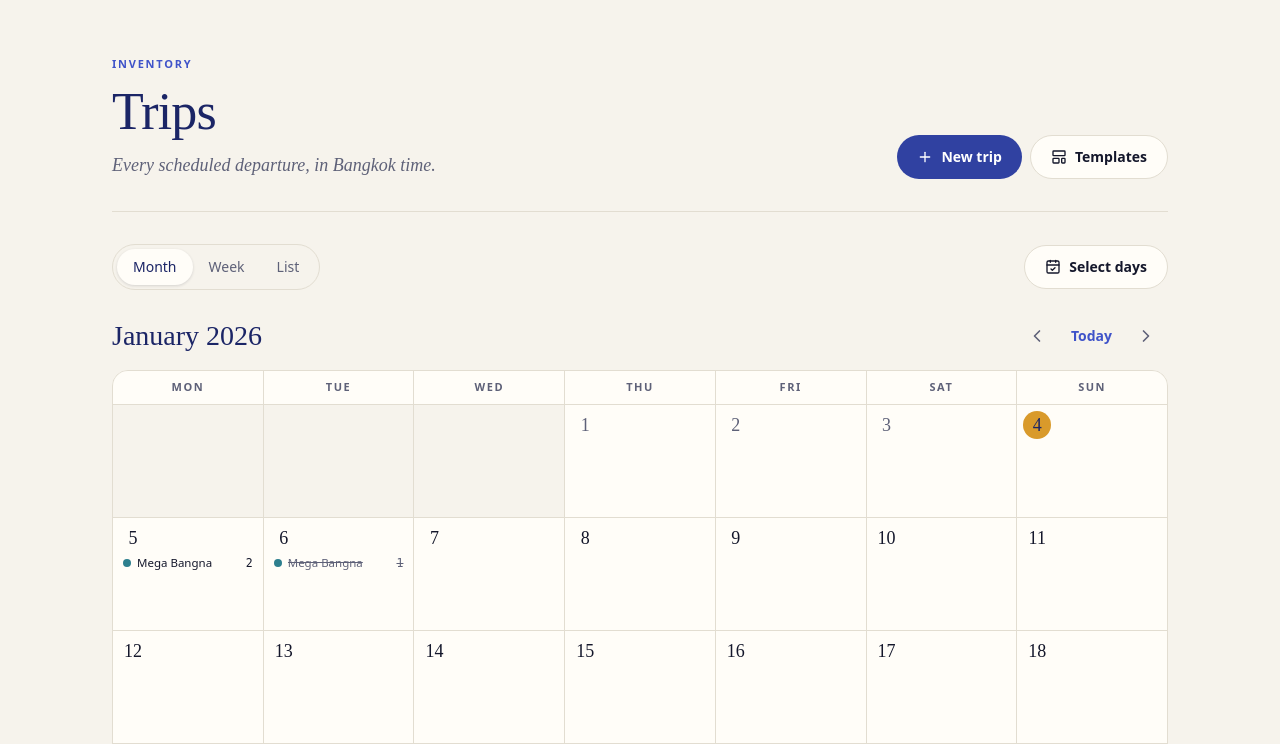
AdminTripsPage calendar › opens on this month with each day's departures counted by route
Expected: the heading "January 2026" is shown, [112,317,262,355]
Expected: the button named "Sunday 4 January, 0 departures" is shown, [1017,405,1167,517]
Step 1. Click the button named "Next month" → (1146, 336), box [1124,314,1168,358]
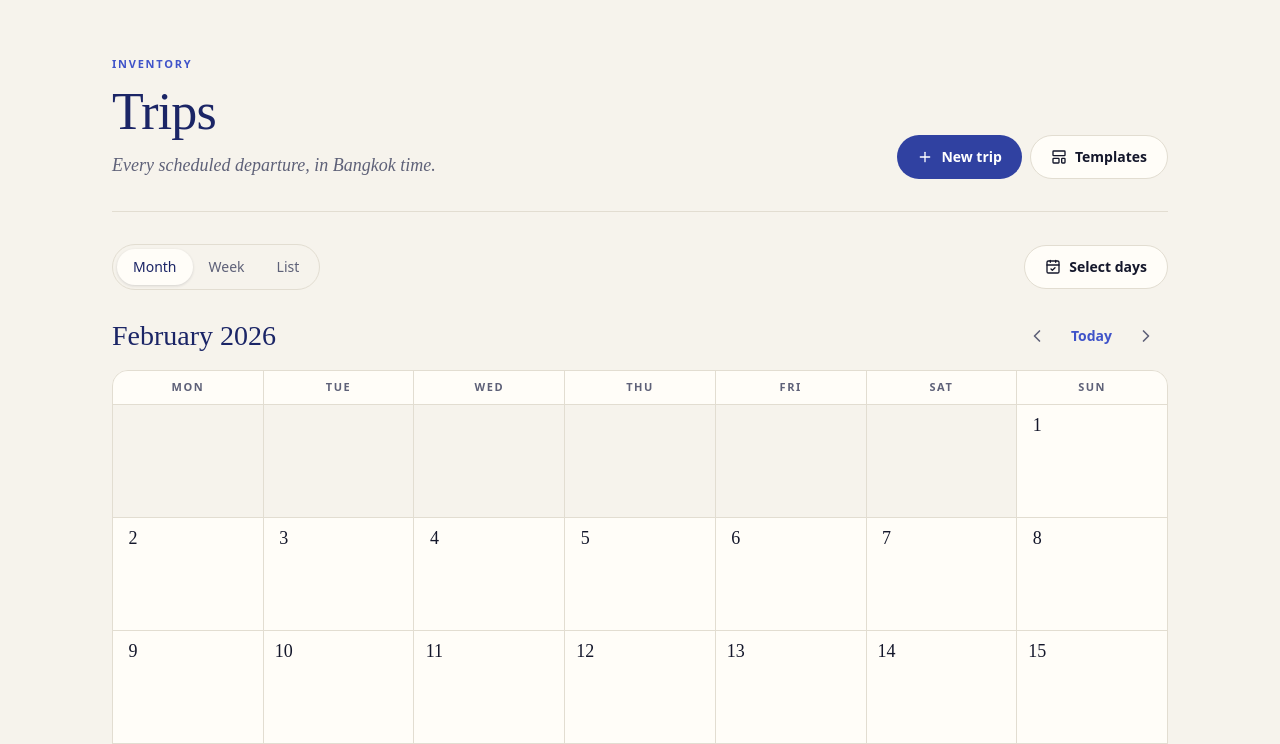
Expected: the heading "February 2026" is shown, [112,317,276,355]
